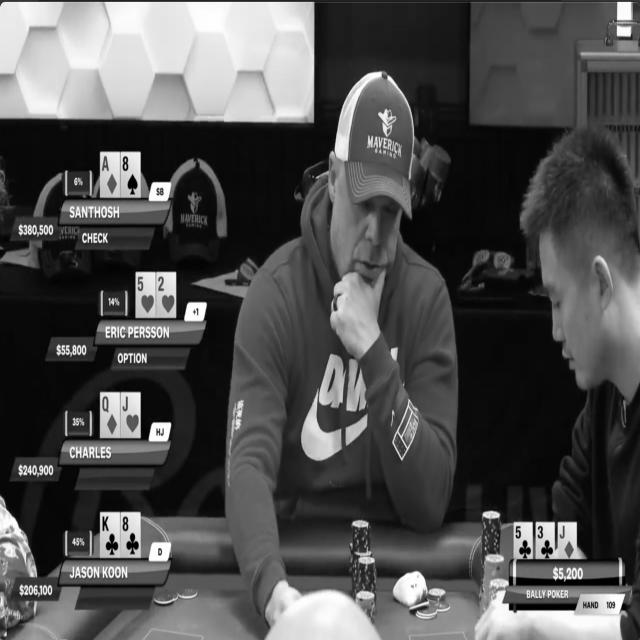2H: (156, 271, 176, 319)
3C: (535, 522, 555, 560)
5C: (514, 522, 532, 559)
5H: (136, 272, 156, 316)
8C: (120, 513, 141, 558)
8S: (120, 153, 140, 198)
AD: (100, 152, 120, 195)
JD: (558, 522, 577, 560)
JH: (120, 392, 140, 438)
KC: (100, 514, 120, 556)
QD: (100, 392, 120, 437)
